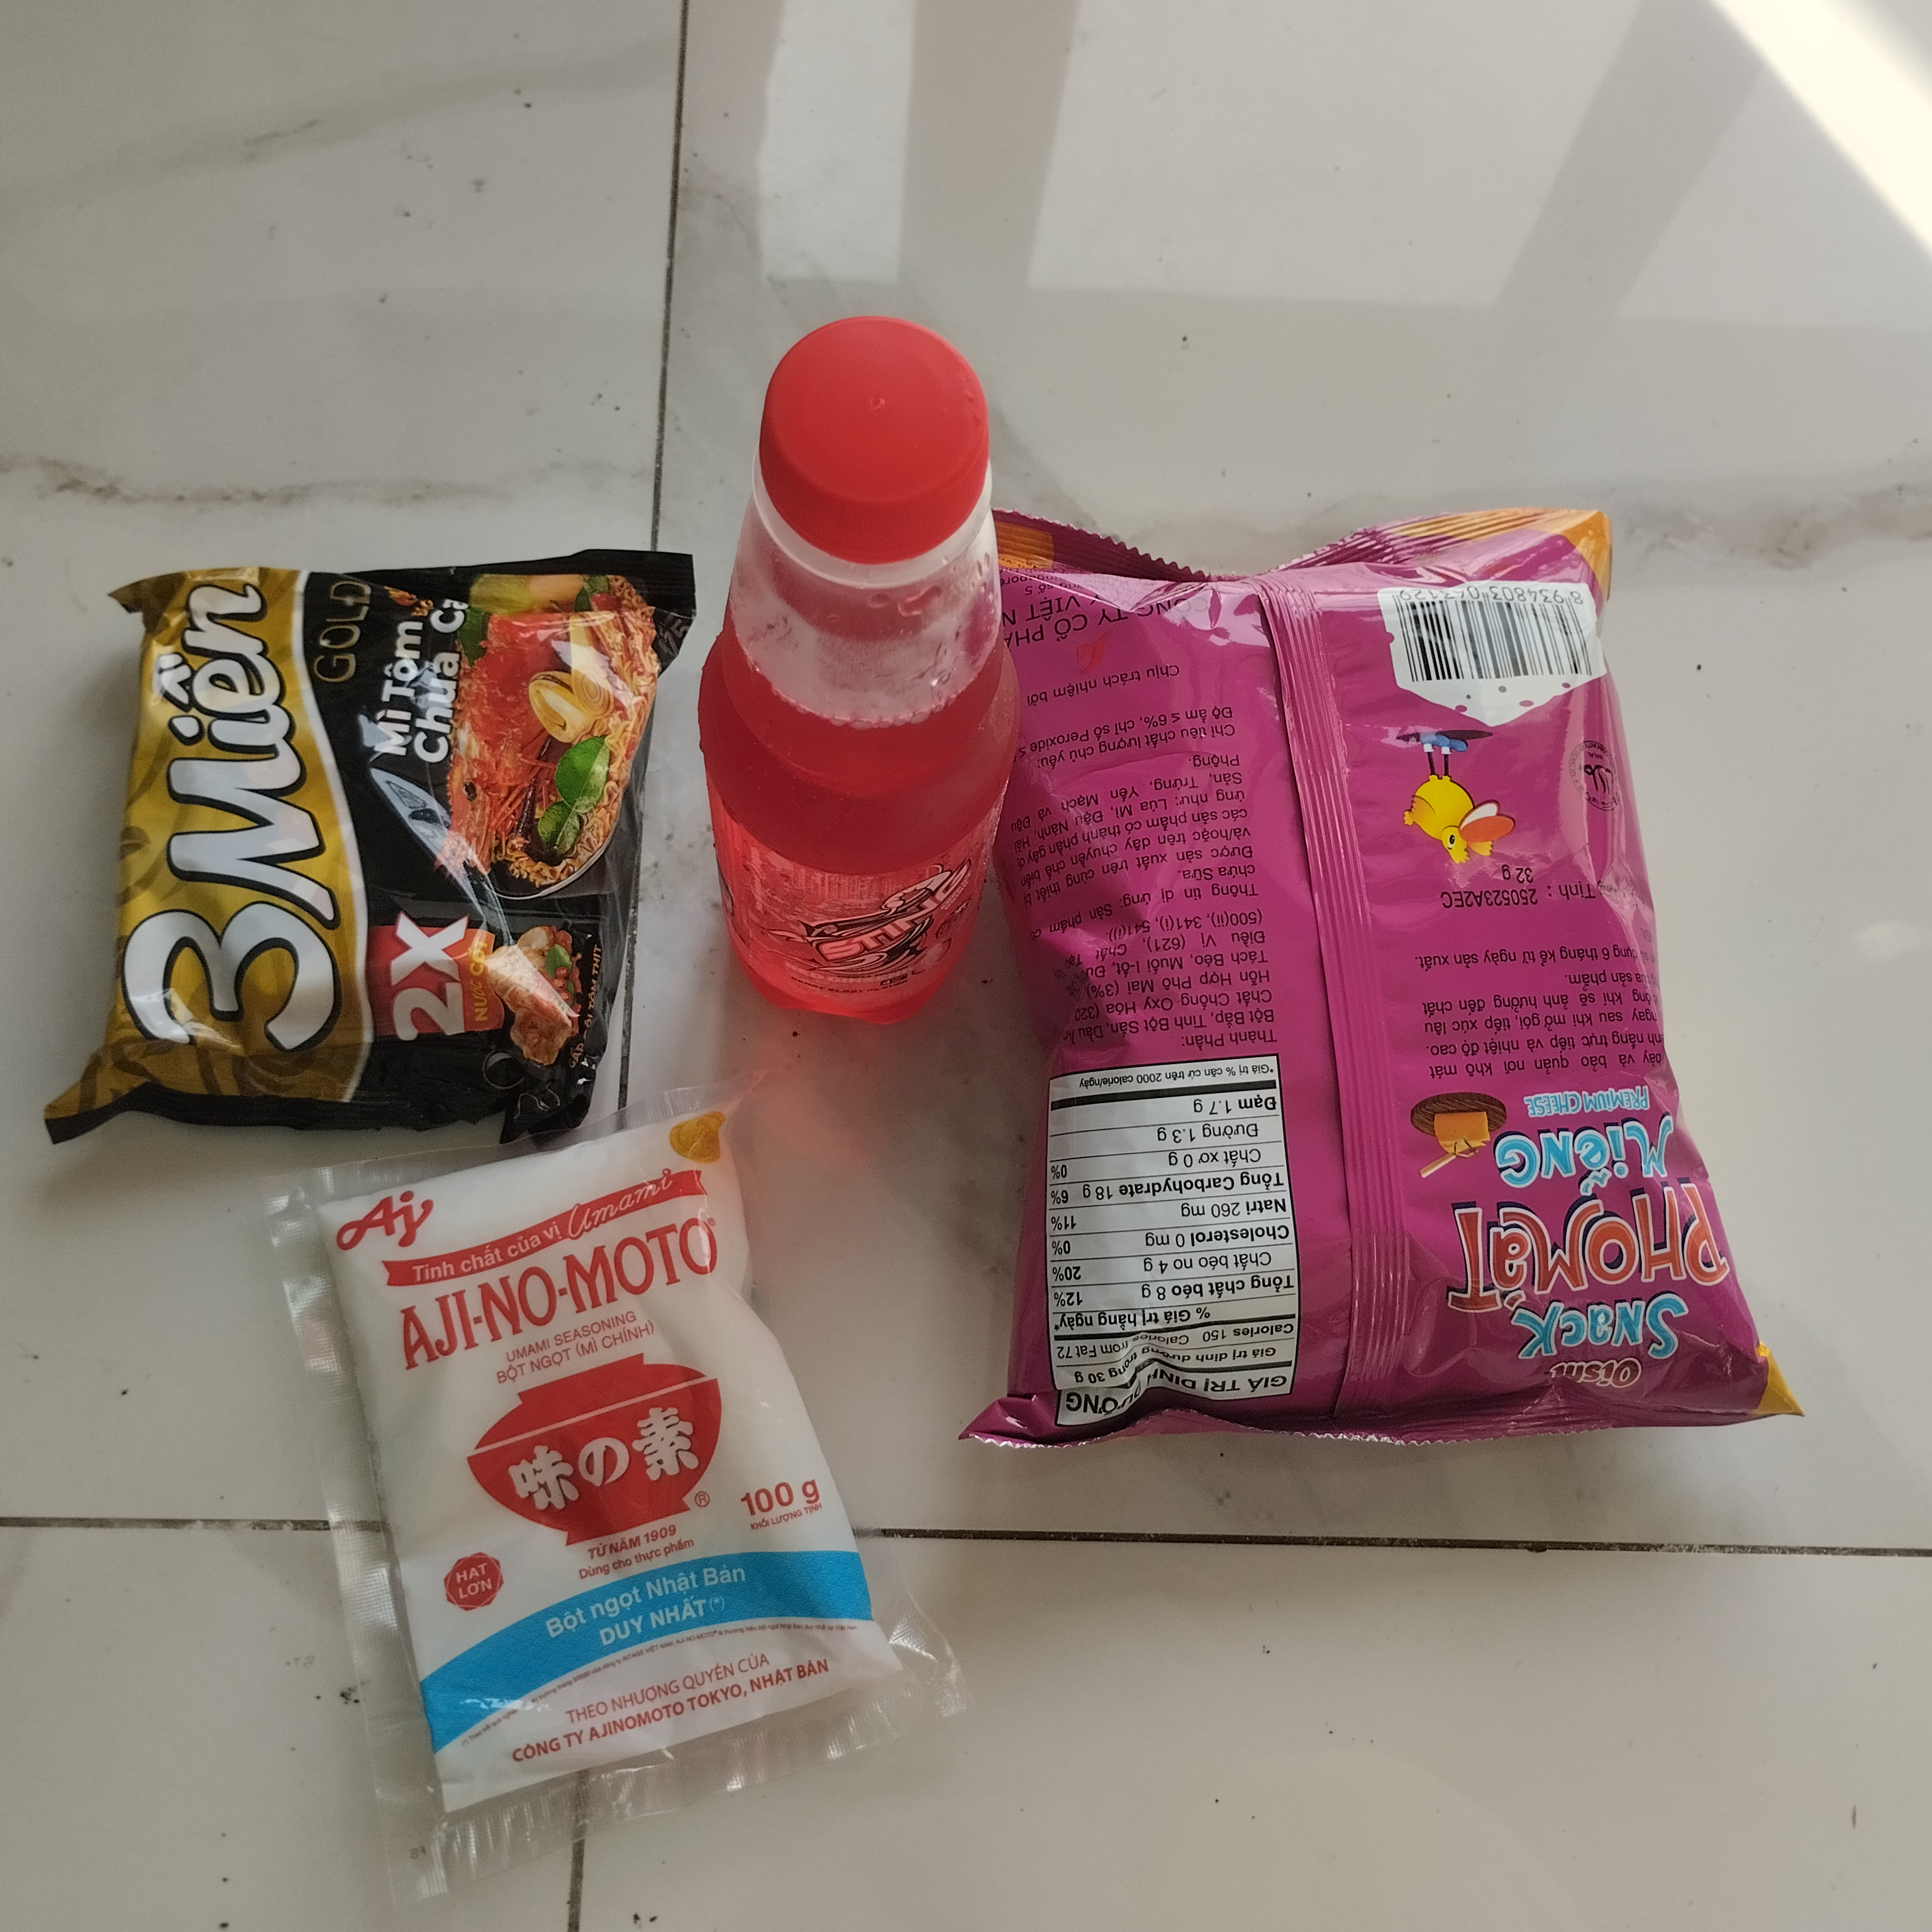3mien: (35, 531, 724, 1145)
Ajinomoto: (257, 1116, 978, 1865)
Oishi_phomat: (936, 492, 1810, 1481)
Sting: (694, 313, 1019, 1040)
